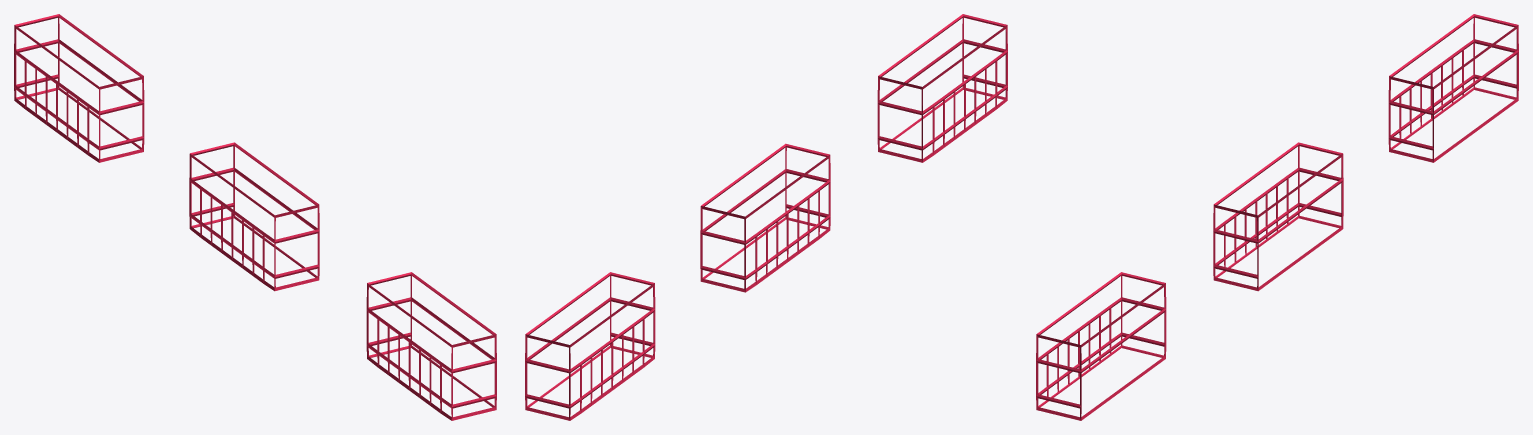
The model's file is BuildingBlock_1_balcony.fbx.
3 renders of one model, left to right at view 1: azimuth 30°, elevation 25°; view 2: azimuth 150°, elevation 25°; view 3: azimuth 330°, elevation 25°, orthographic.
Visible parts, largest first — view 1: BuildingBlock_1_balcony; view 2: BuildingBlock_1_balcony; view 3: BuildingBlock_1_balcony.
Boxes of the visible parts, x1,y1,x2,y2 form: BuildingBlock_1_balcony: (14,14,496,420); BuildingBlock_1_balcony: (525,14,1007,420); BuildingBlock_1_balcony: (1036,14,1518,420).
Size of the model in its own units: 49.95 by 79.73 by 828.
